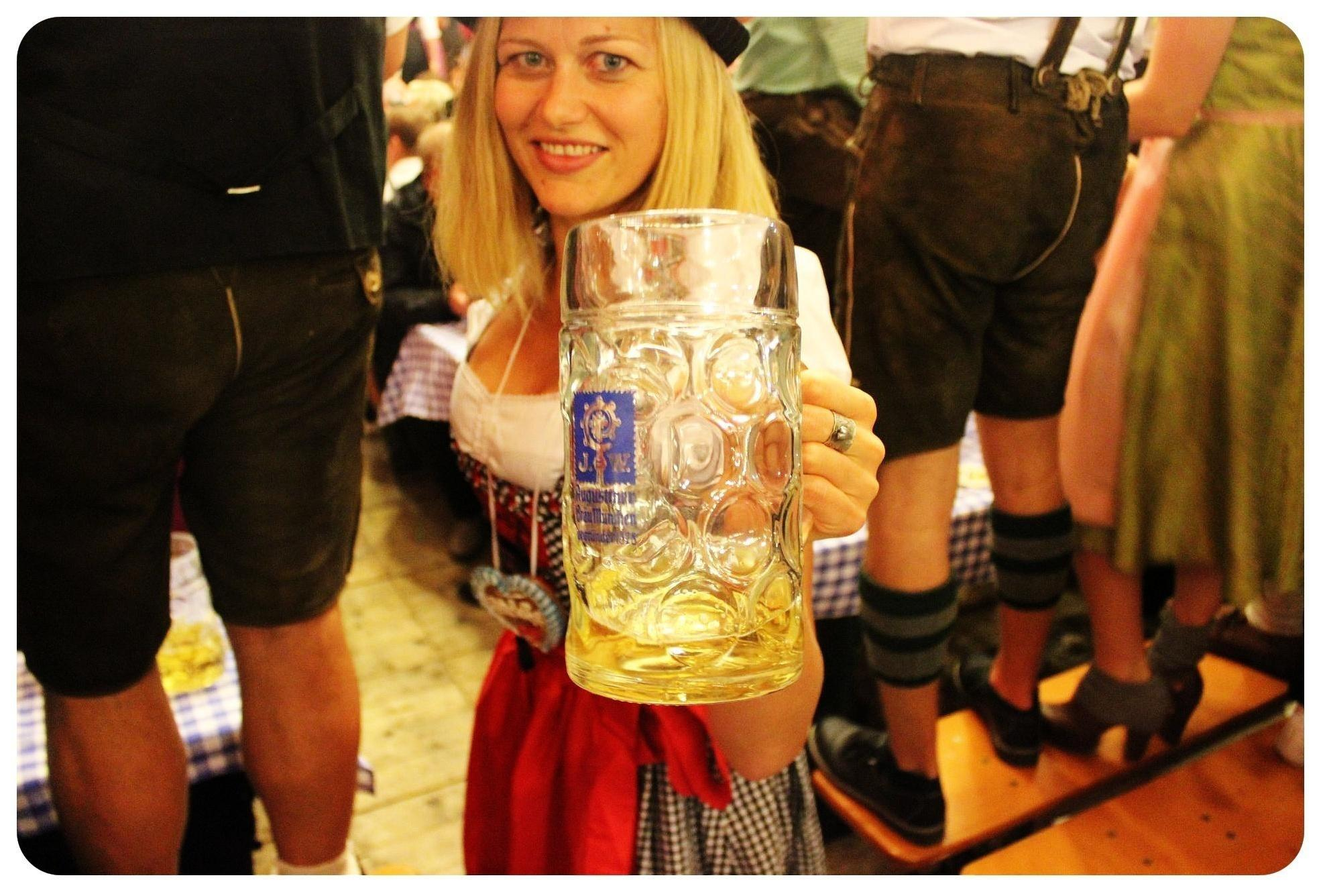glass-mug: (552, 203, 868, 711)
